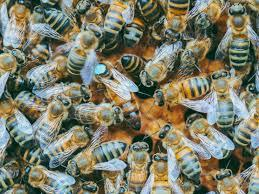Queen-Bee: (87, 54, 148, 135)
worker-bee: (158, 122, 205, 182), (203, 59, 240, 128), (64, 23, 110, 75), (186, 114, 233, 163), (65, 140, 128, 176), (227, 3, 258, 73), (149, 72, 211, 105), (137, 41, 182, 85), (34, 94, 70, 146), (45, 125, 89, 167), (25, 57, 67, 90), (22, 168, 74, 194), (6, 98, 30, 151), (164, 0, 193, 41)
